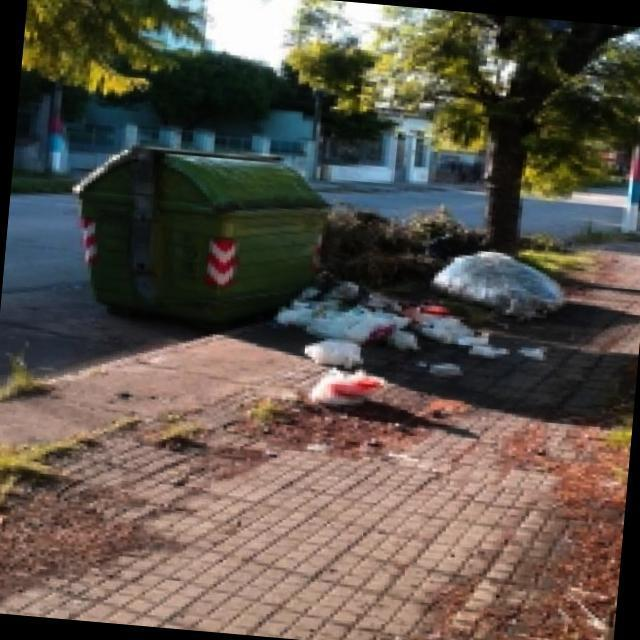garbage: (255, 260, 562, 430), (431, 235, 572, 322)
